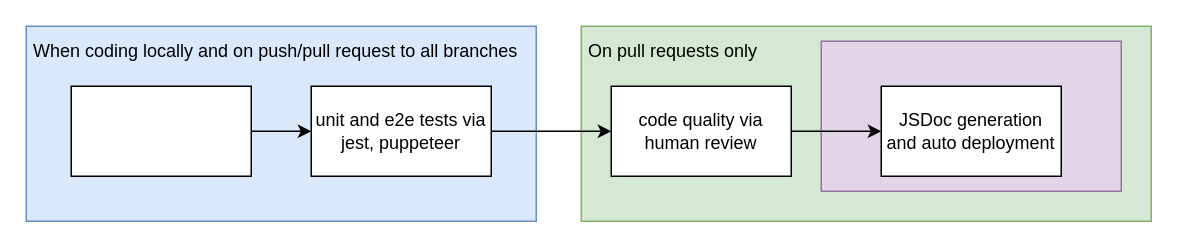
This 1178x248 diagram has some shape labels left out. The shapes that lost their labels are listed below. From the top down, each one's box as (x1, y1, x2, y2) in pixels, then its label:
(70, 85, 251, 176): linting via eslint
(820, 40, 1121, 191): On branch main only
